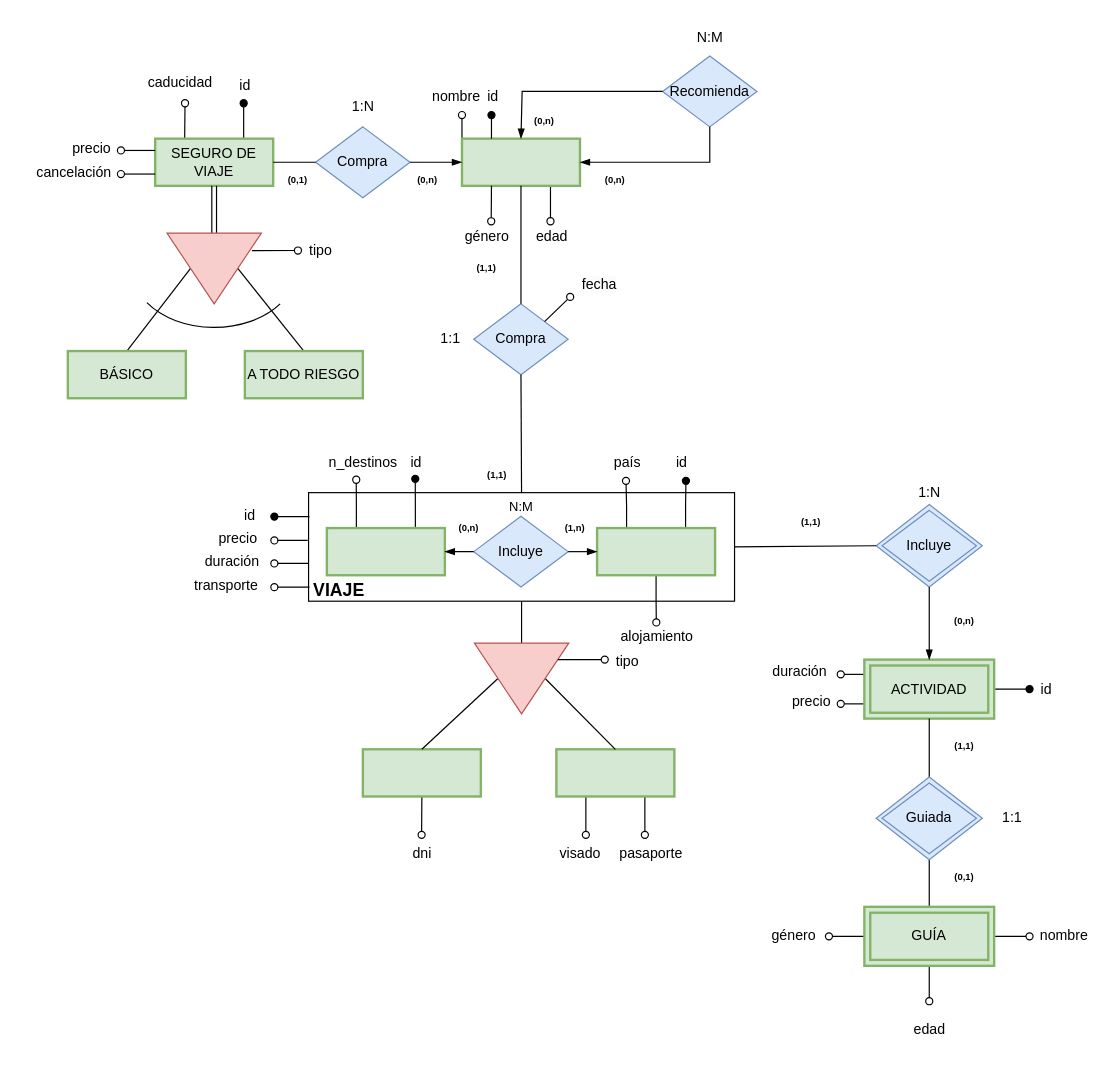
Some shapes in this 1119 by 1067 pixel diagram are drawn without their labels. Each missing label, with the centre of its shape:
CLIENTE: (x=520, y=161)
DESTINO: (x=655, y=551)
INTERNACIONAL: (x=615, y=772)
NACIONAL: (x=421, y=772)
PAQUETE VACACIONAL: (x=385, y=551)
